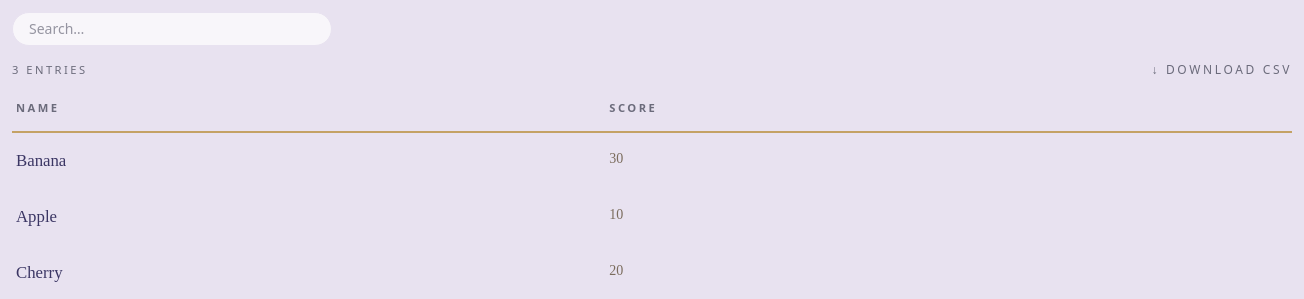
Test: DataTable search + filters (opt-in) › narrowing to zero shows the no-matches reset affordance
Type "zzz" into the search field at (172, 29), box [12, 12, 332, 46]
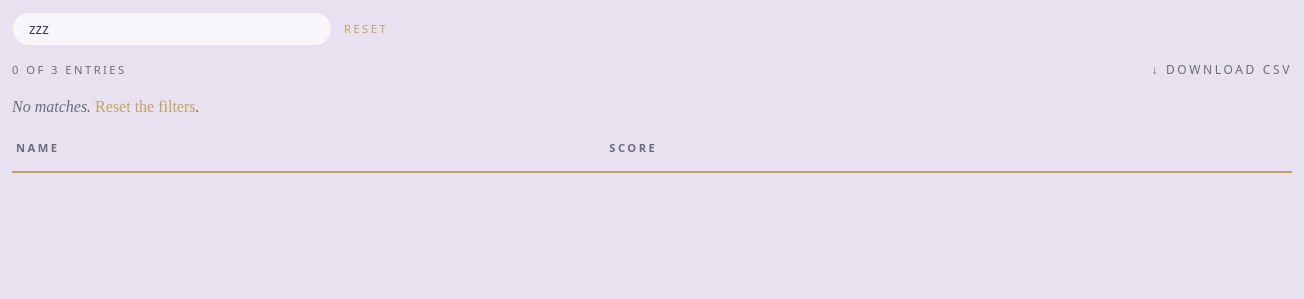
Expected: the text "No matches. Reset the filters ." is shown, [12, 95, 200, 119]
Click the button "Reset the filters" at (145, 107), box [95, 95, 196, 119]
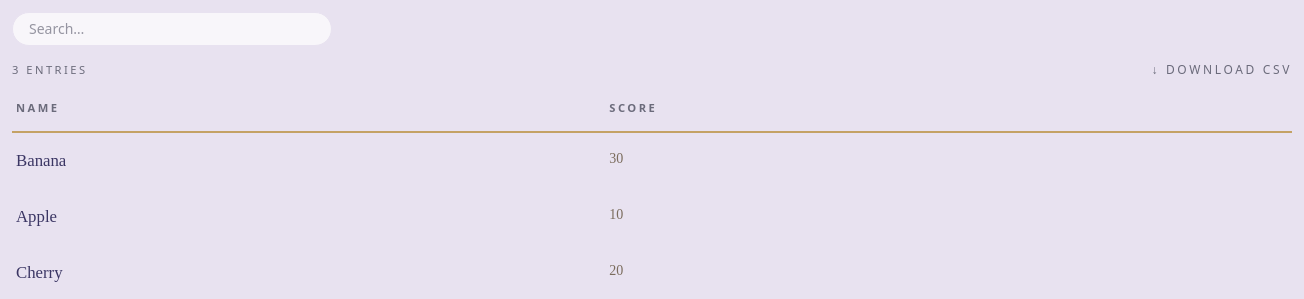
Expected: the text "Banana" is shown, [12, 132, 593, 188]
